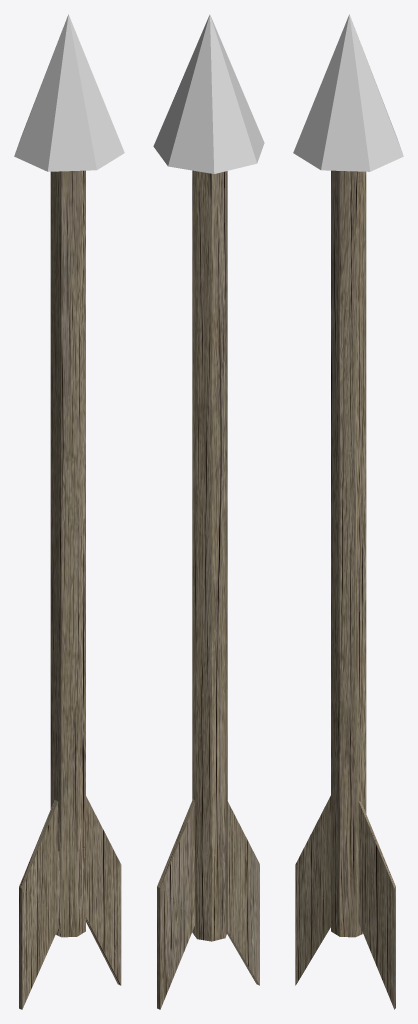
File: Arrow.fbx
3 views of the same model, side by side, from view 1: azimuth 30°, elevation 25°; view 2: azimuth 210°, elevation 25°; view 3: azimuth 330°, elevation 25° (orthographic).
Parts seen in each view (by area): view 1: Cone, Cone.001; view 2: Cone, Cone.001; view 3: Cone, Cone.001.
Part boxes in pixels (x1,y1,x2,y2): Cone: (19, 170, 121, 1009); Cone.001: (14, 14, 124, 171); Cone: (157, 170, 259, 1009); Cone.001: (153, 14, 264, 173); Cone: (295, 170, 395, 1009); Cone.001: (293, 14, 403, 171).
Bounding box in the file's own units: 2.03 × 19.01 × 1.9.
